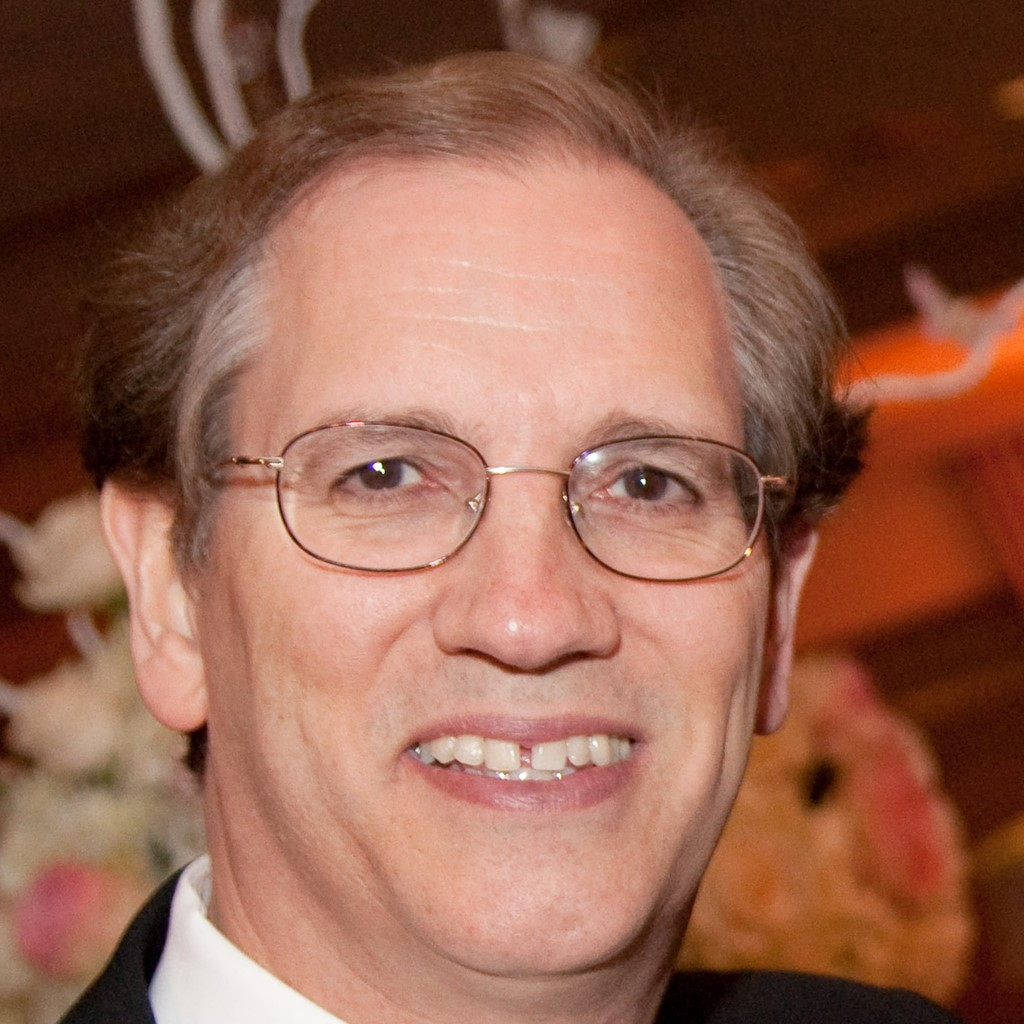sin_mascara: (135, 111, 809, 990)
